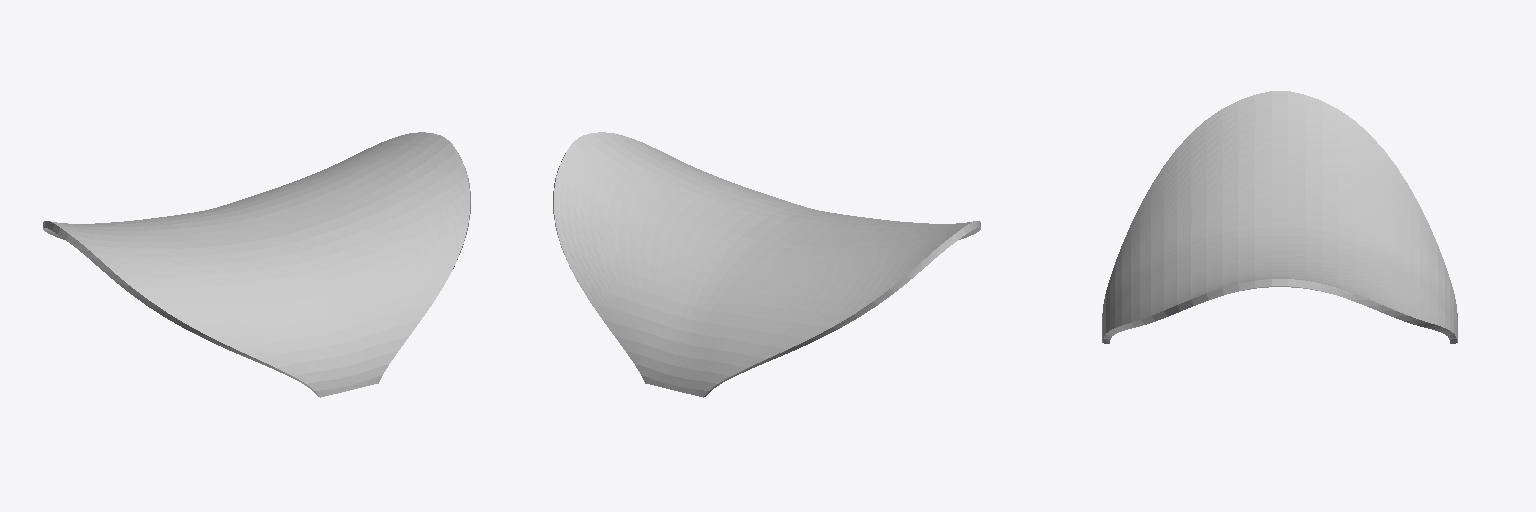
Rendered from chip.obj.
3 views of the same model, side by side, from view 1: azimuth 30°, elevation 25°; view 2: azimuth 150°, elevation 25°; view 3: azimuth 270°, elevation 25° (orthographic).
Parts seen in each view (by area): view 1: Plane; view 2: Plane; view 3: Plane.
Part boxes in pixels (left/top/right/bottom): Plane: left=43, top=132, right=470, bottom=397; Plane: left=553, top=132, right=980, bottom=397; Plane: left=1102, top=91, right=1457, bottom=343.
Size of the model in its own units: 5.04 by 1.78 by 4.